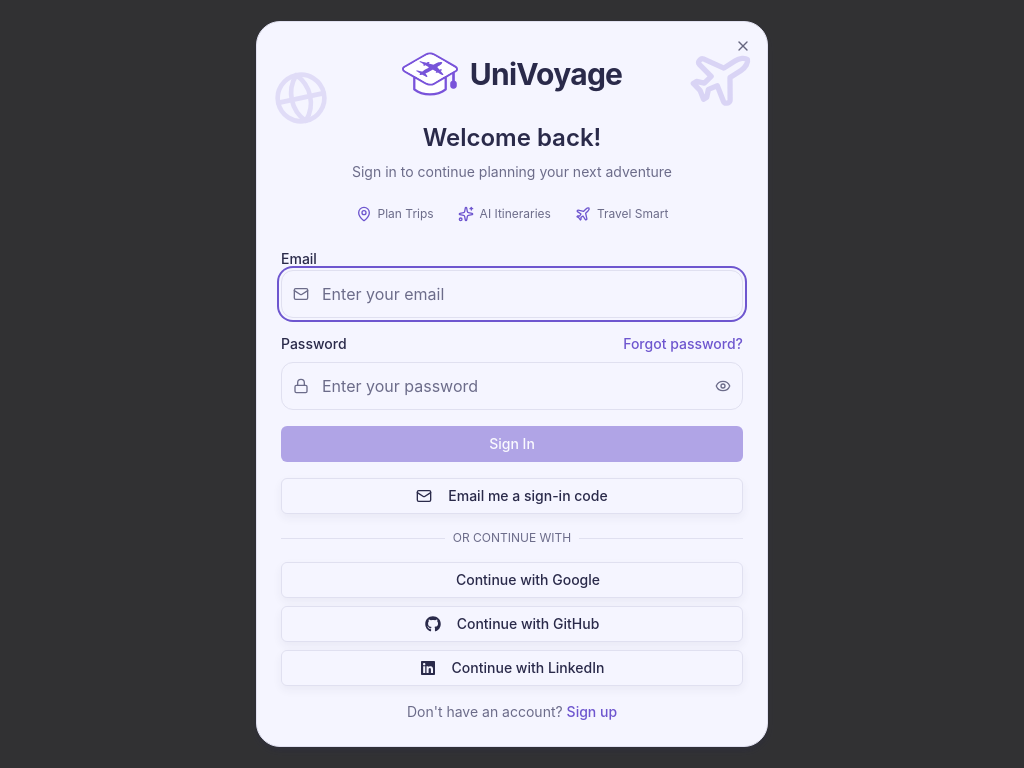
Scenario: LoginDialog email OTP flow › disables requesting after a request 429 Retry-After header
Click the button "Email me a sign-in code" at (512, 496), box [281,478,743,514]
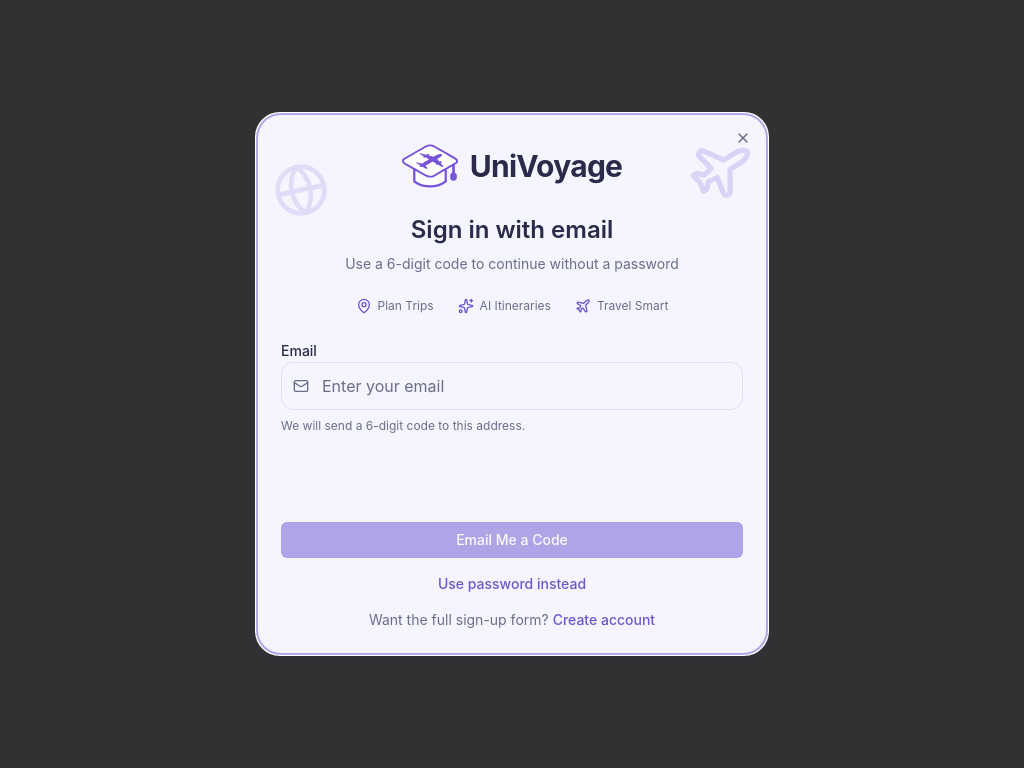
Type "otp@example.com" into the field labelled "Email" at (512, 386), box [281,362,743,410]
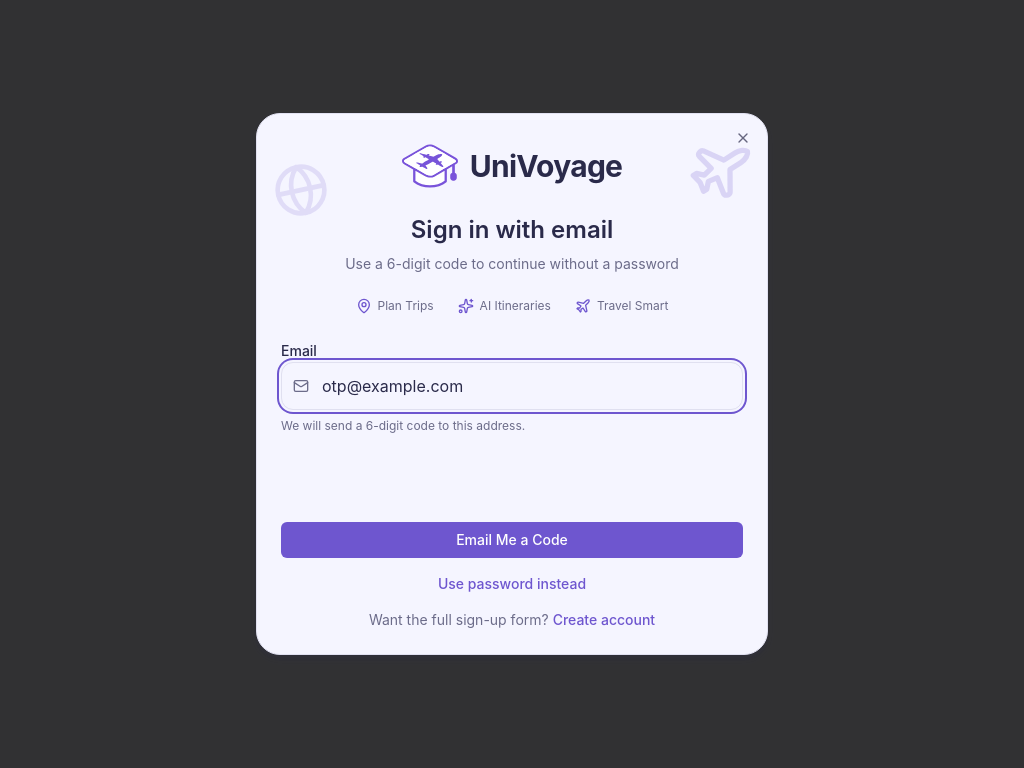
Click the button "Email Me a Code" at (512, 540), box [281,522,743,558]
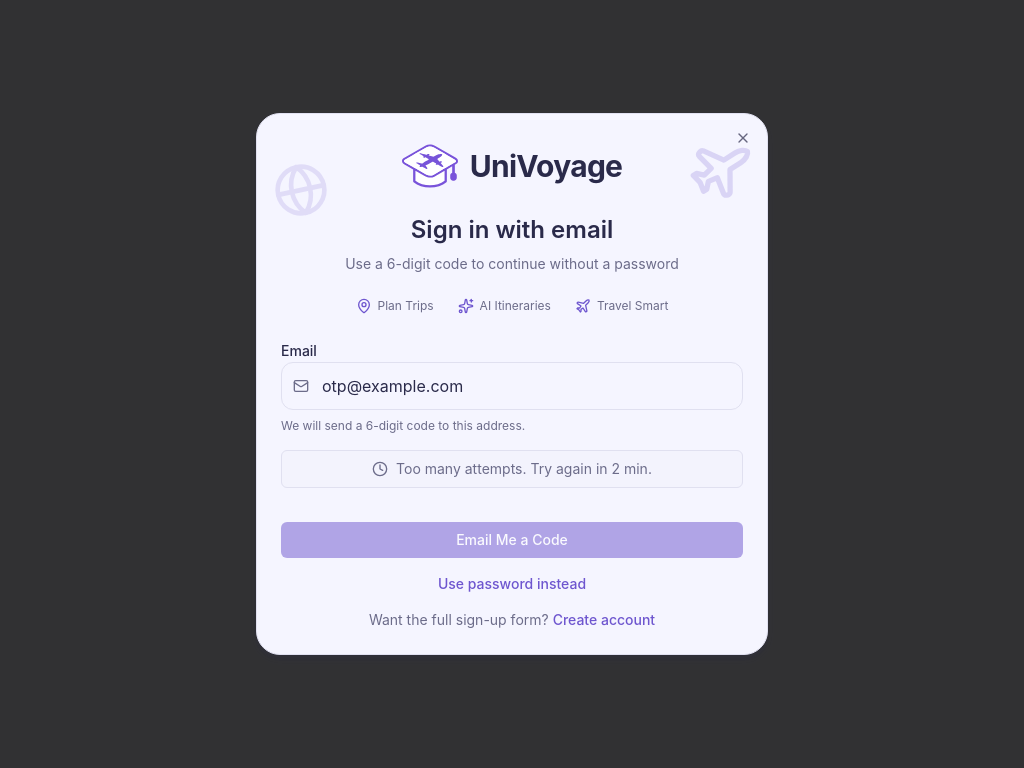
Check: the text "Too many attempts. Try again in 2 min." is shown, box [396,459,652,479]
Check: the button "Email Me a Code" is disabled, box [281,522,743,558]
